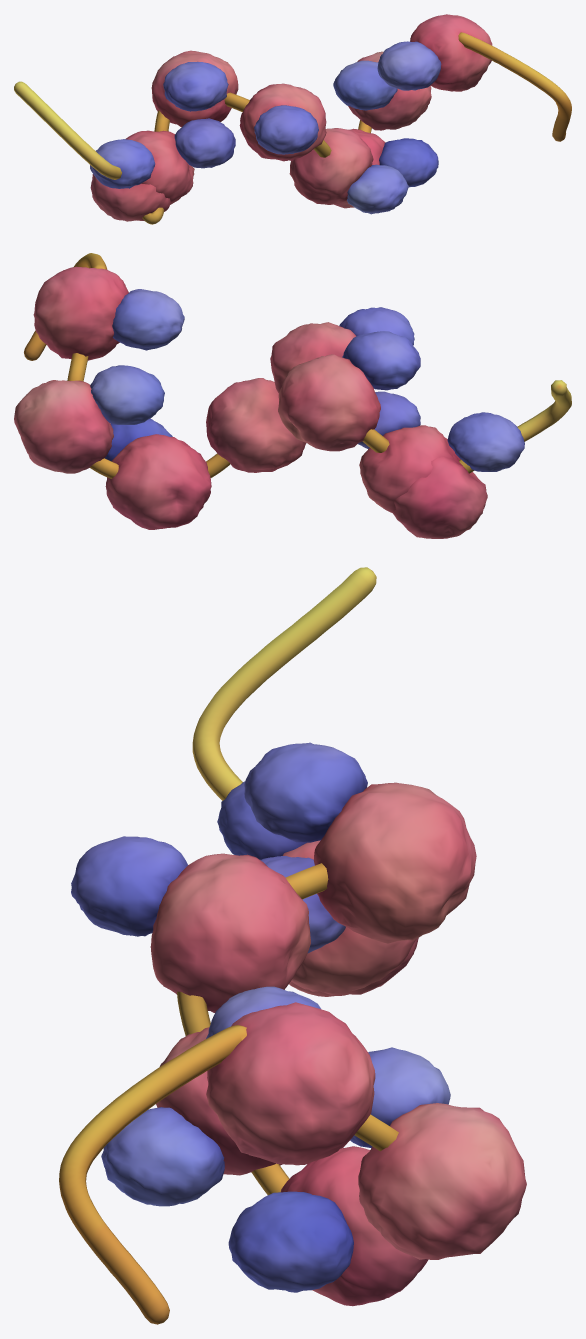
The model's file is ribosome.glb.
The picture shows the model from 3 angles, top to bottom: view 1: azimuth 30°, elevation 25°; view 2: azimuth 150°, elevation 25°; view 3: azimuth 270°, elevation 25°; orthographic projection. The views are drawn at different scales.
Visible parts, largest first — view 1: ribosome-large, ribosome-small, ribosome-mrna; view 2: ribosome-large, ribosome-small, ribosome-mrna; view 3: ribosome-large, ribosome-small, ribosome-mrna.
Boxes of the visible parts, <box> form: ribosome-large: <box>90,14,492,221</box>; ribosome-small: <box>90,41,441,214</box>; ribosome-mrna: <box>14,32,571,224</box>; ribosome-large: <box>14,266,487,538</box>; ribosome-small: <box>90,289,524,471</box>; ribosome-mrna: <box>24,253,571,478</box>; ribosome-large: <box>150,782,526,1306</box>; ribosome-small: <box>71,742,450,1292</box>; ribosome-mrna: <box>59,567,398,1324</box>.
Size of what is drawn, in the model's own units: 1.39 by 0.5393 by 0.5662.
